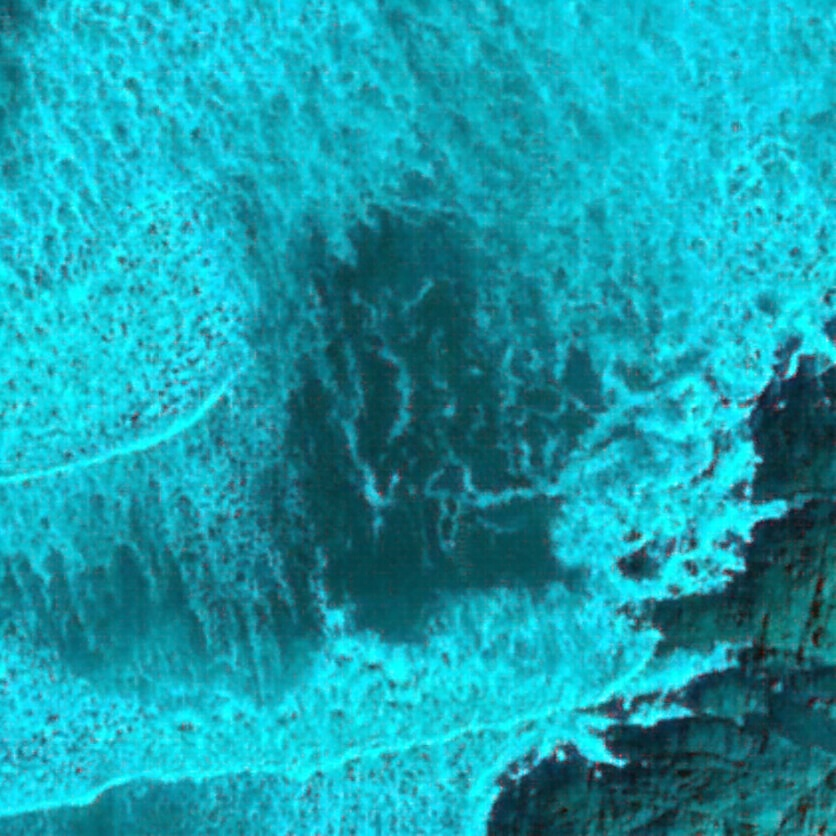rip_current: (184, 175, 647, 673)
